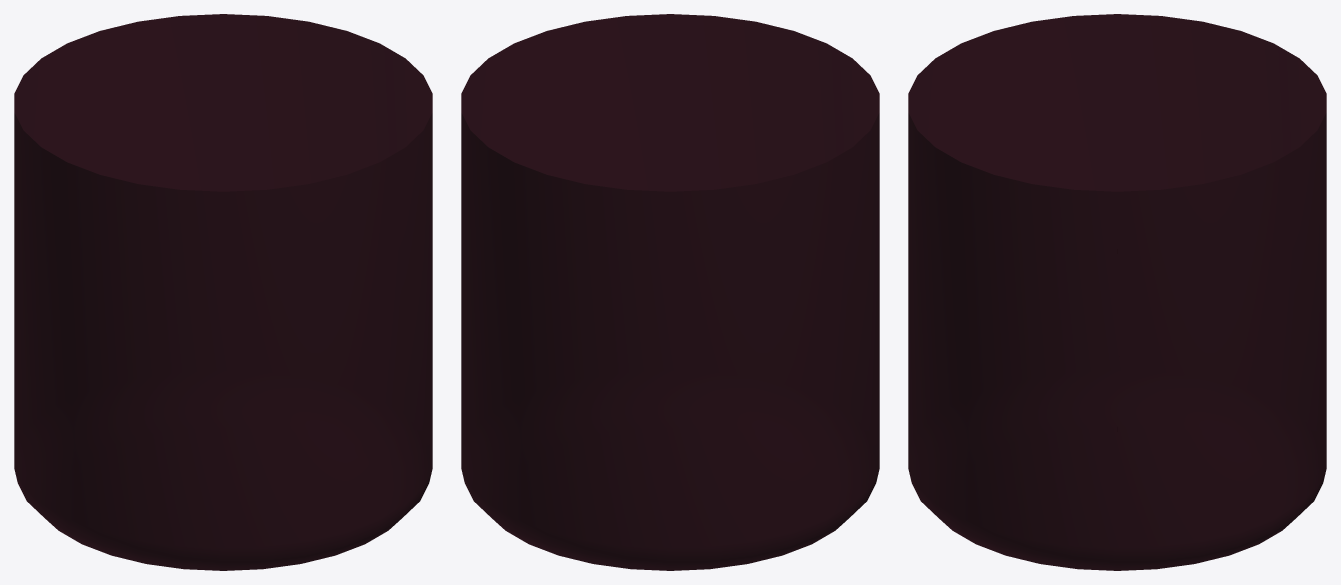
File: SM_10mL环己烷_乙酸乙酯液体.fbx
3 views of the same model, side by side, from view 1: azimuth 30°, elevation 25°; view 2: azimuth 150°, elevation 25°; view 3: azimuth 270°, elevation 25° (orthographic).
Visible parts, largest first — view 1: SM_10mL环己烷_乙酸乙酯液体; view 2: SM_10mL环己烷_乙酸乙酯液体; view 3: SM_10mL环己烷_乙酸乙酯液体.
Boxes of the visible parts, x1,y1,x2,y2 form: SM_10mL环己烷_乙酸乙酯液体: [14, 14, 432, 570]; SM_10mL环己烷_乙酸乙酯液体: [461, 14, 879, 570]; SM_10mL环己烷_乙酸乙酯液体: [908, 14, 1326, 570].
Size of the model in its own units: 0.0301 by 0.0312 by 0.0299.
